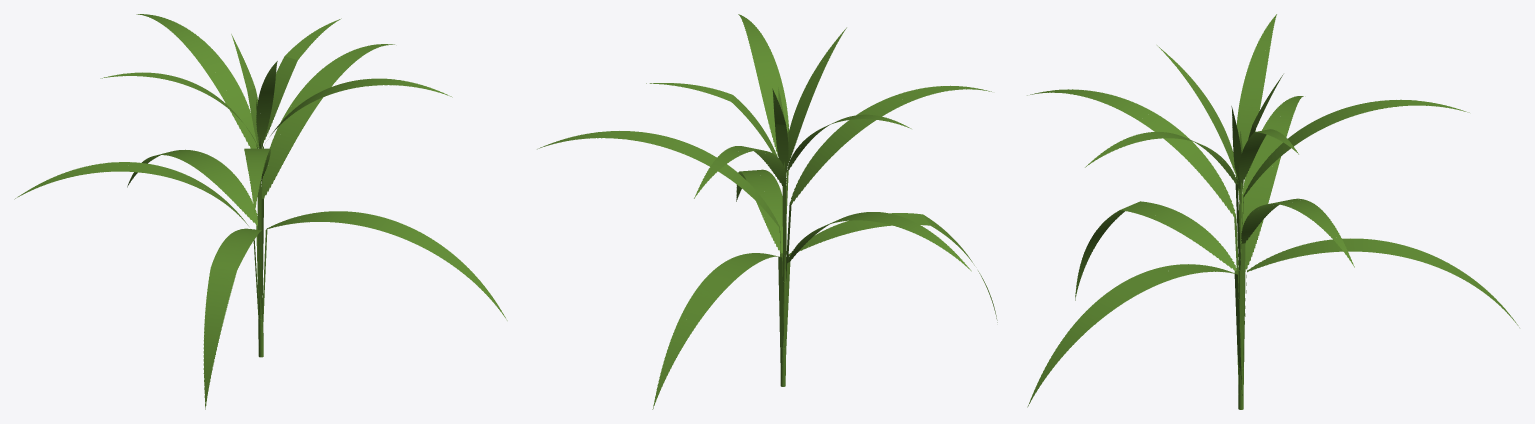
The model's file is maize_002_day_085.dae.
The picture shows the model from 3 angles, left to right: view 1: azimuth 30°, elevation 25°; view 2: azimuth 150°, elevation 25°; view 3: azimuth 270°, elevation 25°; orthographic projection. The views are drawn at different scales.
Visible parts, largest first — view 1: node; view 2: node; view 3: node.
Boxes of the visible parts, x1,y1,x2,y2 form: node: (14,14,507,409); node: (537,14,997,409); node: (1027,14,1519,409).
Size of the model in its own units: 1.51 by 1.17 by 1.49.
Materials: 1 (1 with a texture image).
